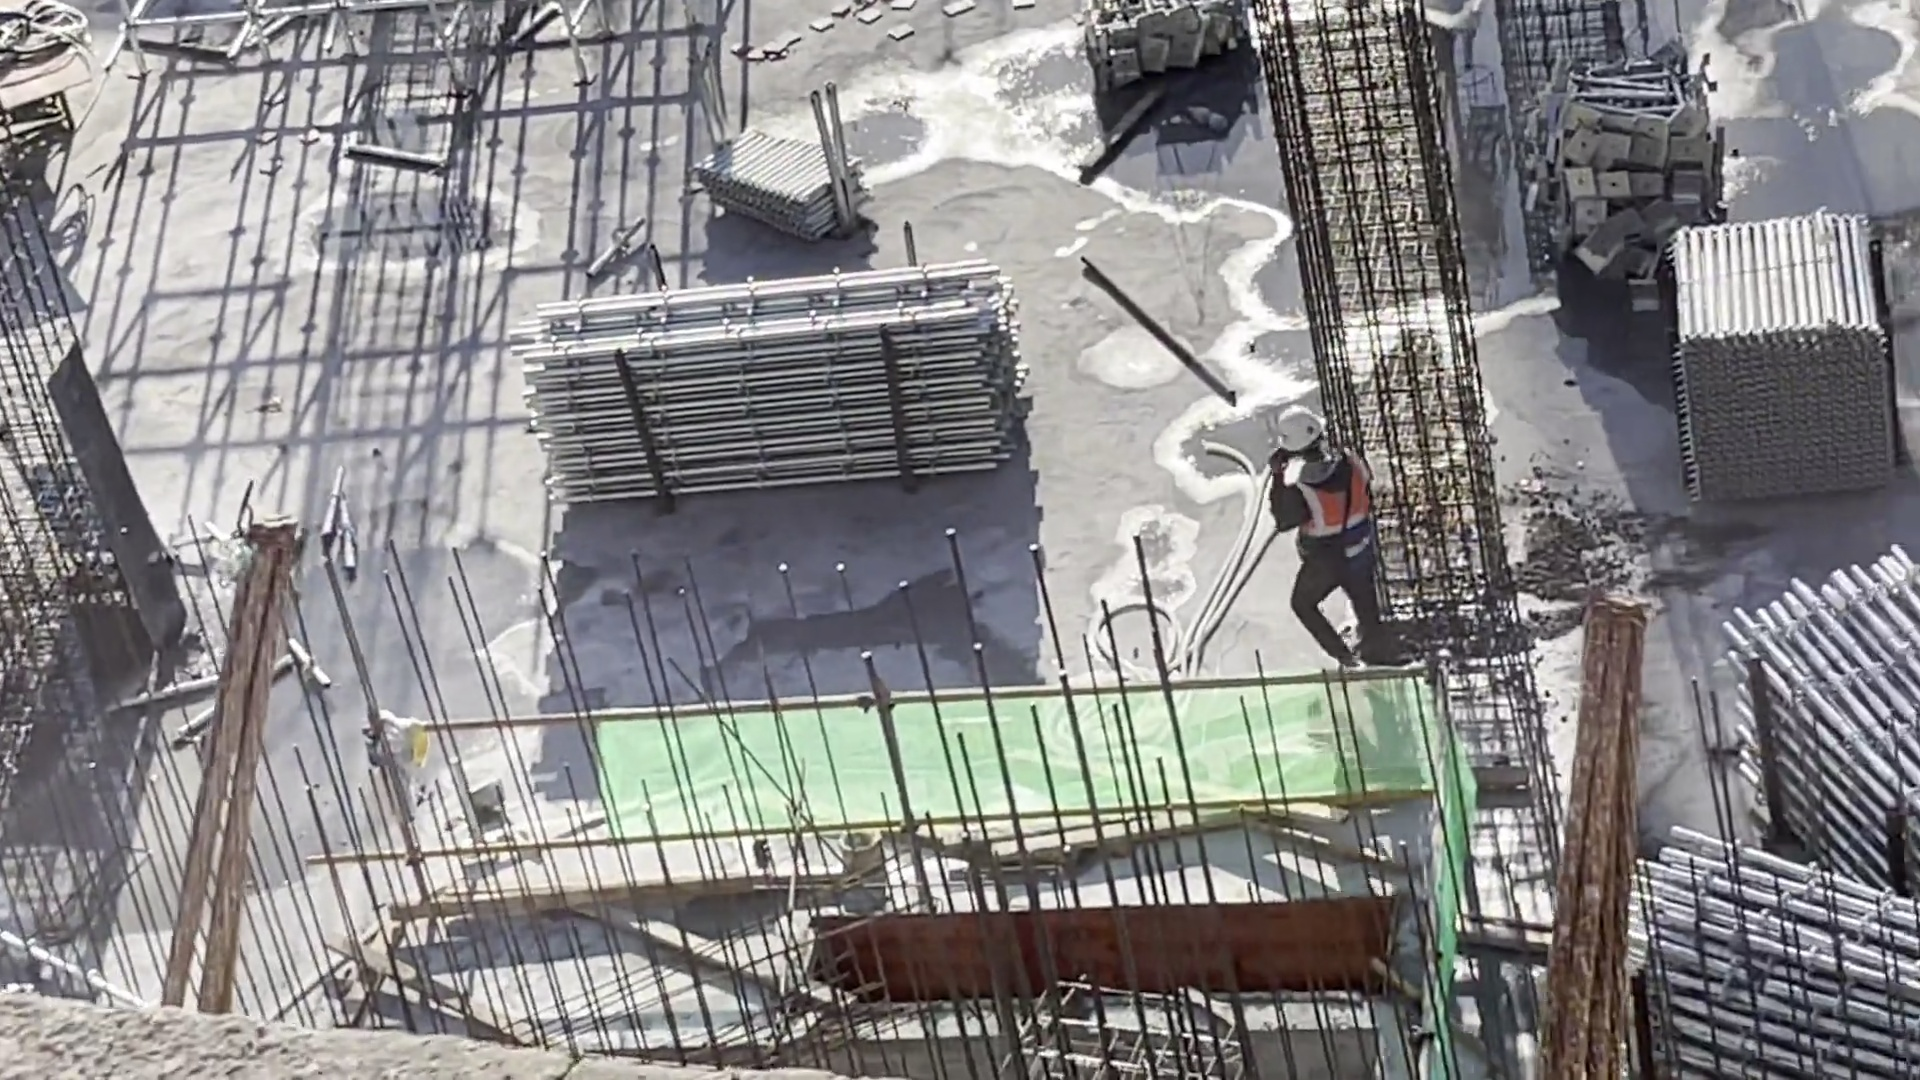helmet: (1264, 404, 1321, 467)
person: (1236, 401, 1394, 630)
scaffold: (521, 264, 983, 477), (1616, 827, 1920, 1063), (1684, 207, 1884, 497), (1744, 532, 1916, 846), (698, 99, 879, 224)
vest: (1298, 459, 1388, 549)
